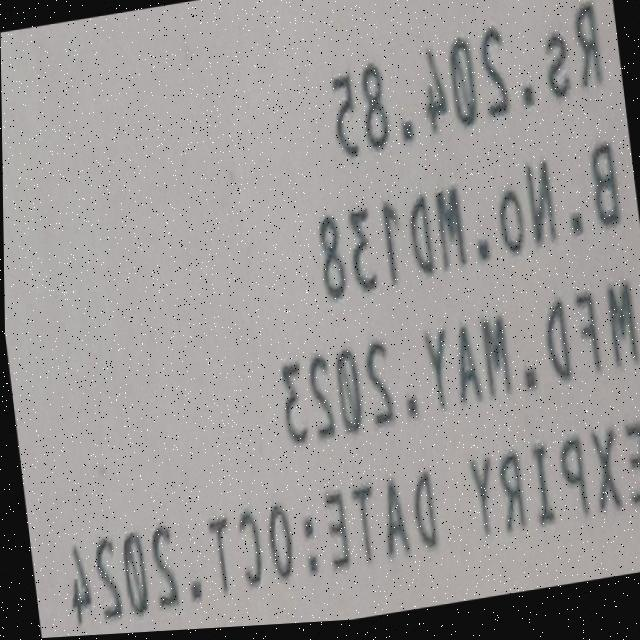sentence: (69, 424, 640, 623), (279, 285, 637, 451), (318, 145, 621, 303), (331, 6, 602, 161), (576, 10, 601, 91)
